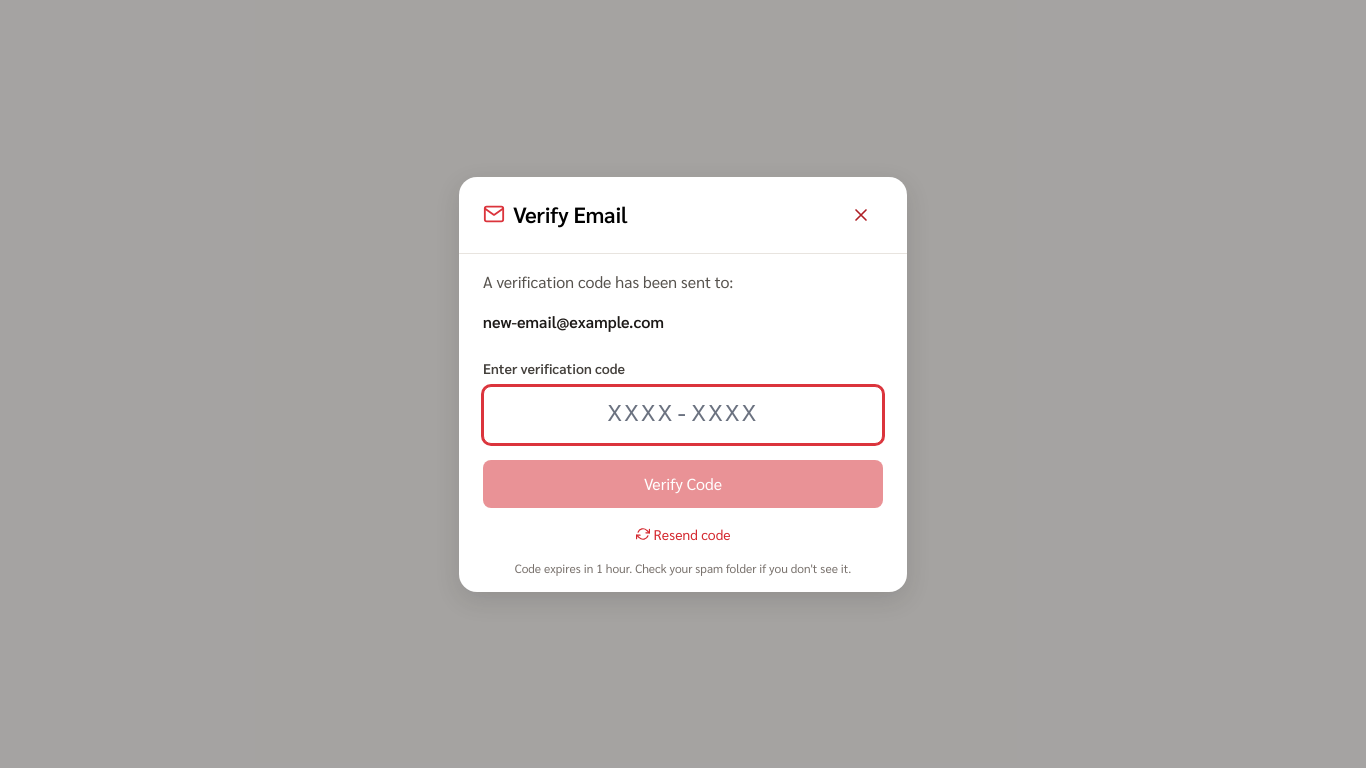
Scenario: EmailVerificationModal › Resend › should surface the "temporarily unavailable" error when resend is clicked
The image size is (1366, 768).
Click the button with test id "resend-code-button".
click(683, 534)  # box [636,524,730,544]
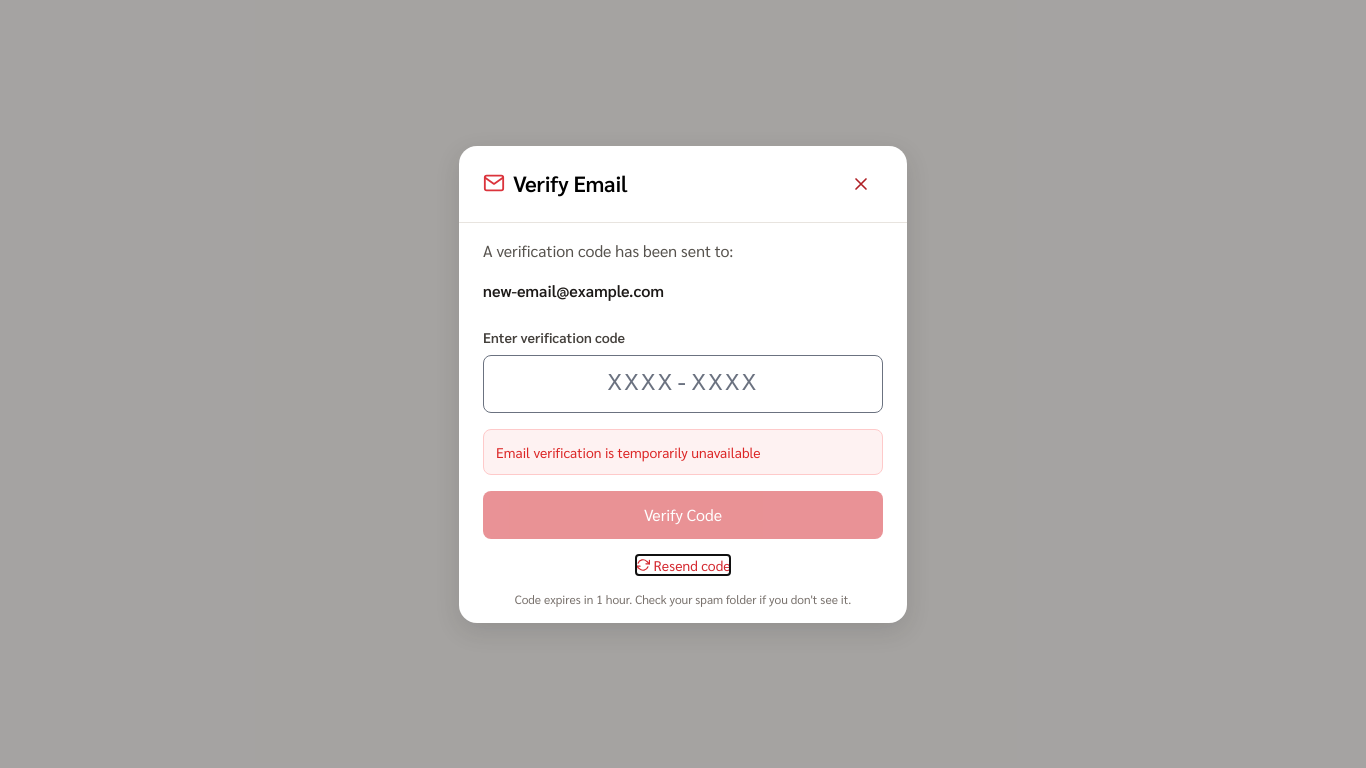
Expected: the text "Email verification is temporarily unavailable" is shown, [483,428,883,474]
